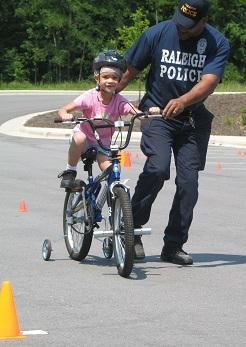With Helmet: (89, 50, 129, 93)
